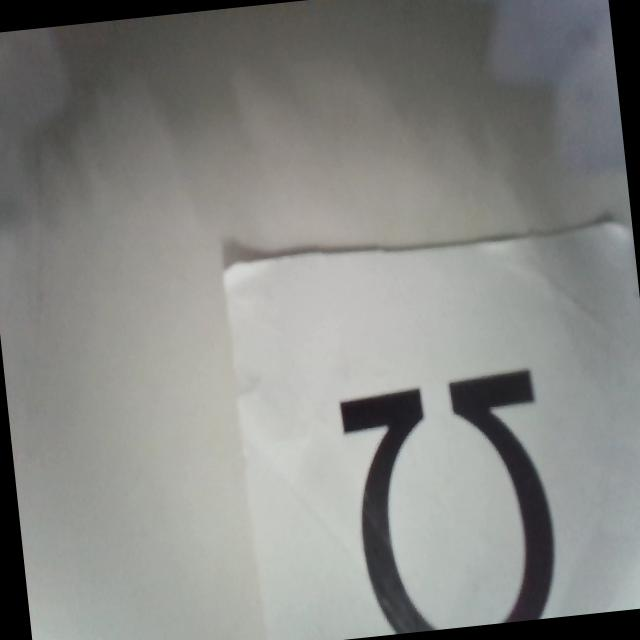OM: (334, 364, 568, 634)
